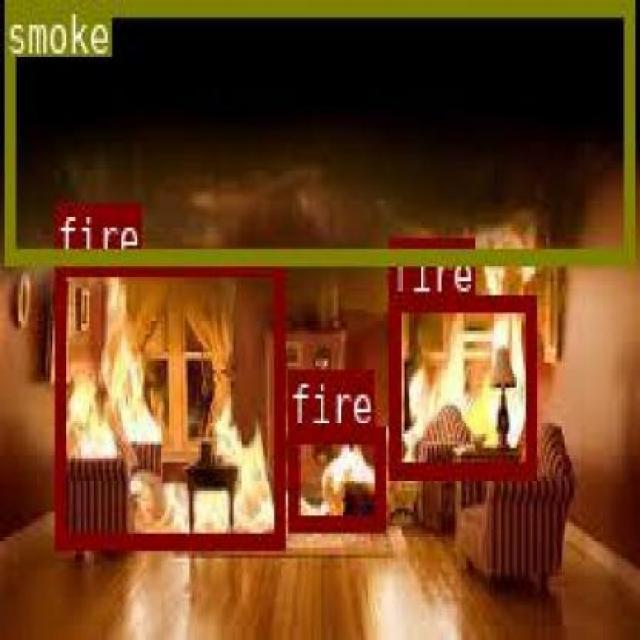Fire: (53, 256, 282, 547), (388, 292, 534, 474), (287, 426, 382, 528)
Smoke: (3, 0, 632, 263)
